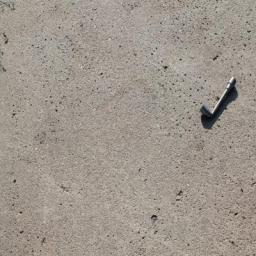FOD: (197, 74, 240, 126)
